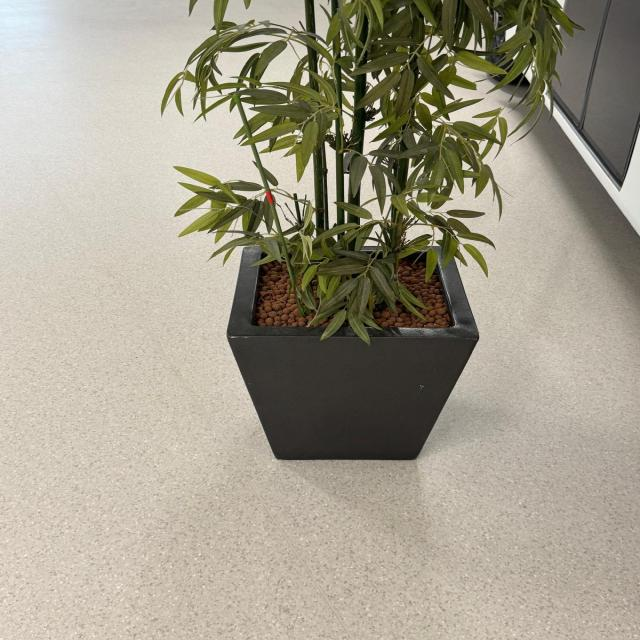Pot: (227, 245, 482, 459)
